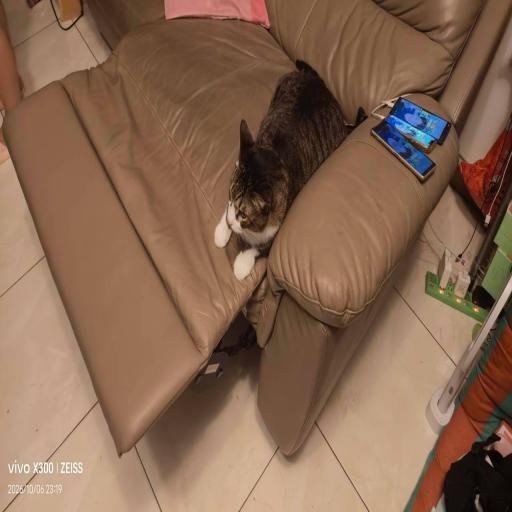cat: (219, 73, 328, 236)
